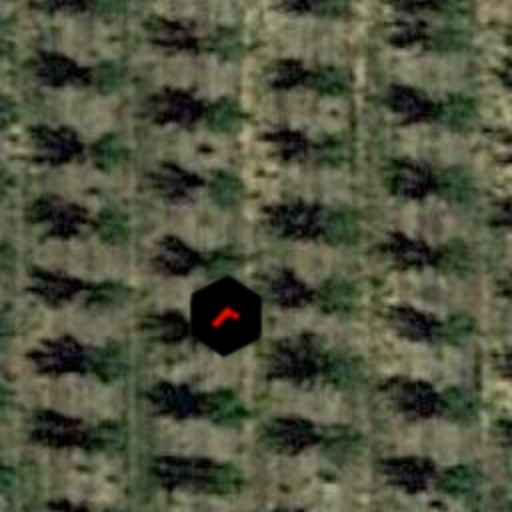hexagon: (168, 258, 284, 374)
